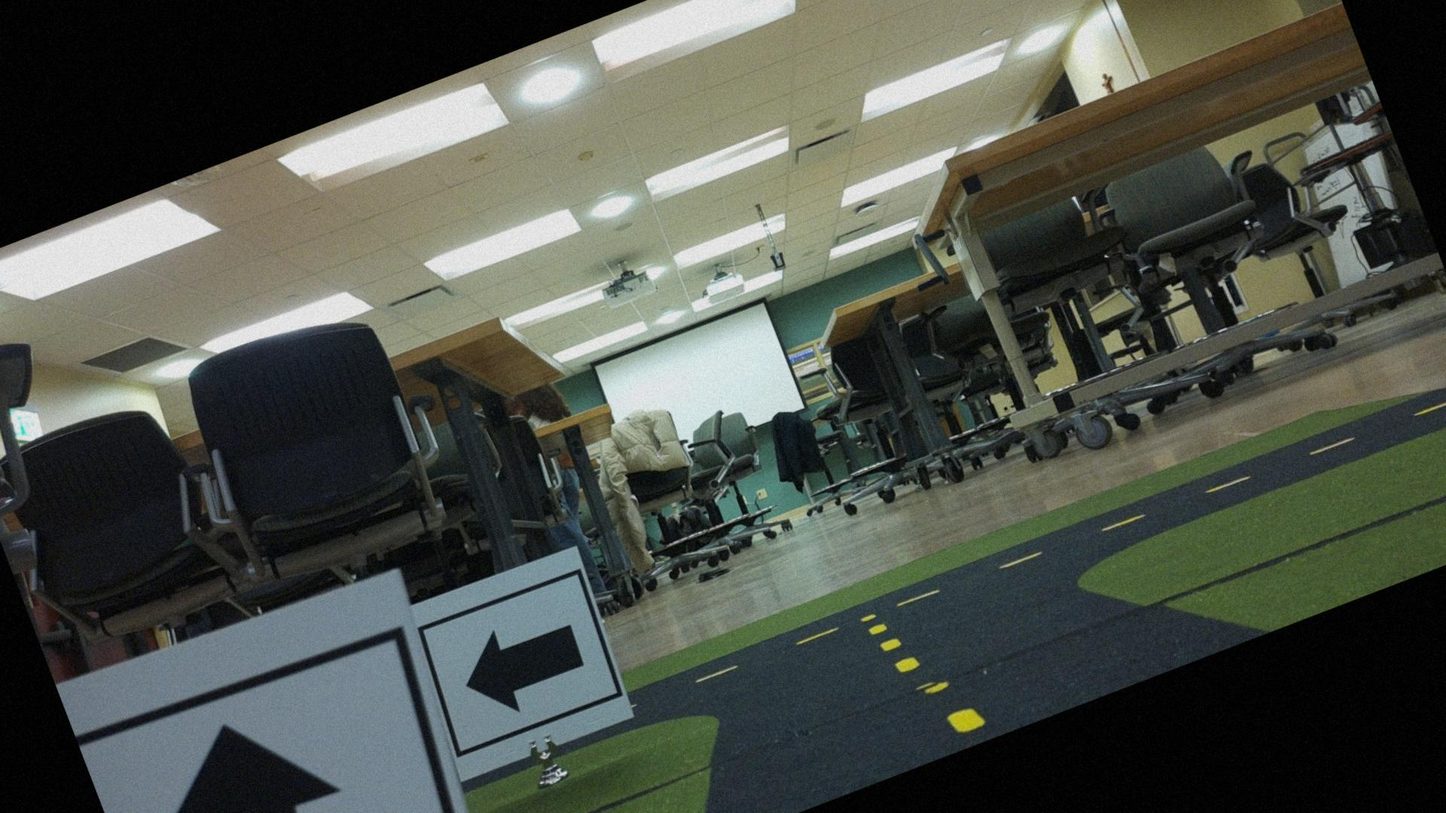gostraight: (62, 576, 505, 812)
turnleft: (411, 552, 636, 781)
yellowline: (869, 602, 983, 752)
